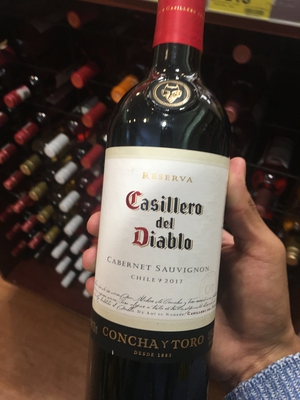casillero del diablo cabernet sauvignon: (82, 9, 234, 400)
